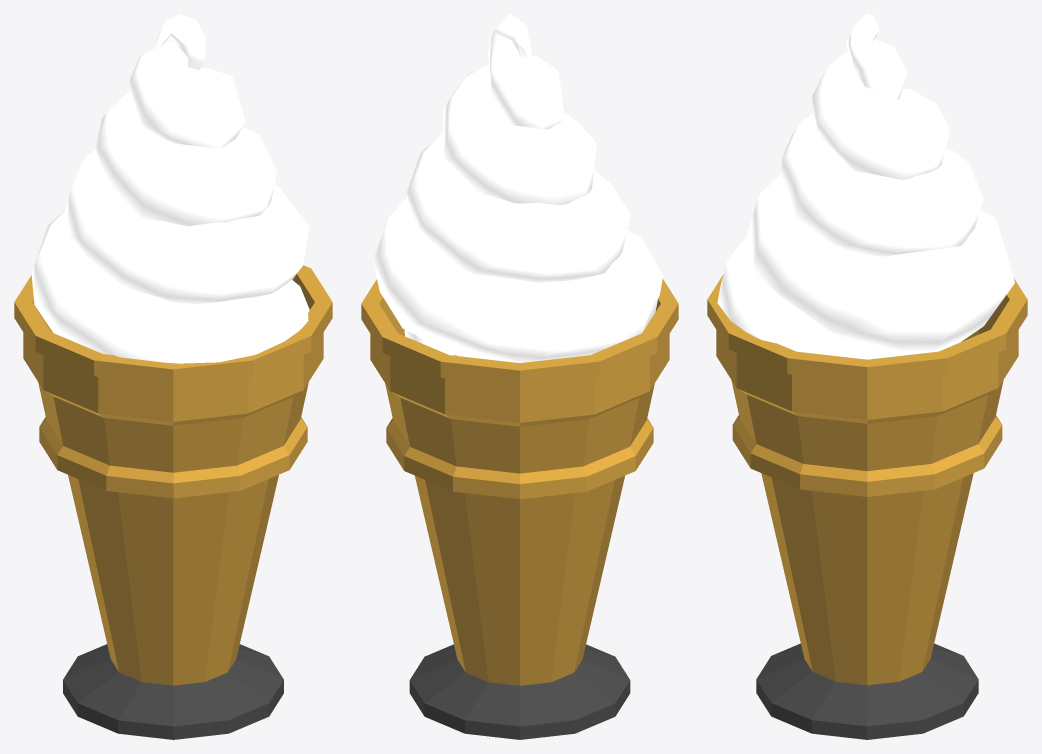
File: iceCream.glb
The picture shows the model from 3 angles, left to right: view 1: azimuth 30°, elevation 25°; view 2: azimuth 150°, elevation 25°; view 3: azimuth 270°, elevation 25°; orthographic projection.
Visible parts, largest first — view 1: IceCream; view 2: IceCream; view 3: IceCream.
Part boxes in pixels (x1=…): IceCream: x1=14, y1=14, x2=332, y2=739; IceCream: x1=361, y1=14, x2=678, y2=739; IceCream: x1=707, y1=14, x2=1027, y2=739.
Bounding box in the file's own units: 0.3993 × 0.9383 × 0.3993.
Materials: 2 (1 with a texture image).
